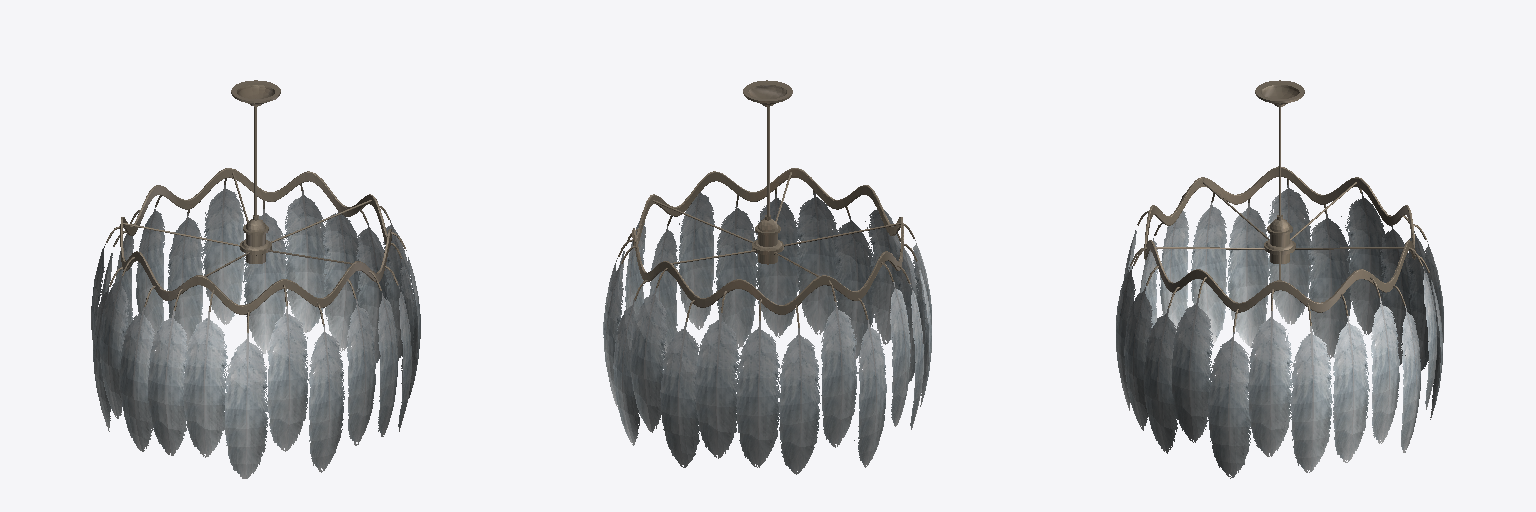
3 renders of one model, left to right at view 1: azimuth 30°, elevation 25°; view 2: azimuth 150°, elevation 25°; view 3: azimuth 270°, elevation 25°, orthographic.
Parts seen in each view (by area): view 1: glass_003, solid_002; view 2: glass_003, solid_002; view 3: glass_003, solid_002.
Boxes of the visible parts, box(x1,y1,x2,y2) form: glass_003: box(91, 185, 420, 478); solid_002: box(106, 80, 405, 332); glass_003: box(603, 192, 931, 474); solid_002: box(618, 80, 917, 327); glass_003: box(1116, 185, 1443, 478); solid_002: box(1130, 80, 1429, 331).
Size of the model in its own units: 0.8321 by 0.9205 by 0.8326.
1 materials, 1 textured.